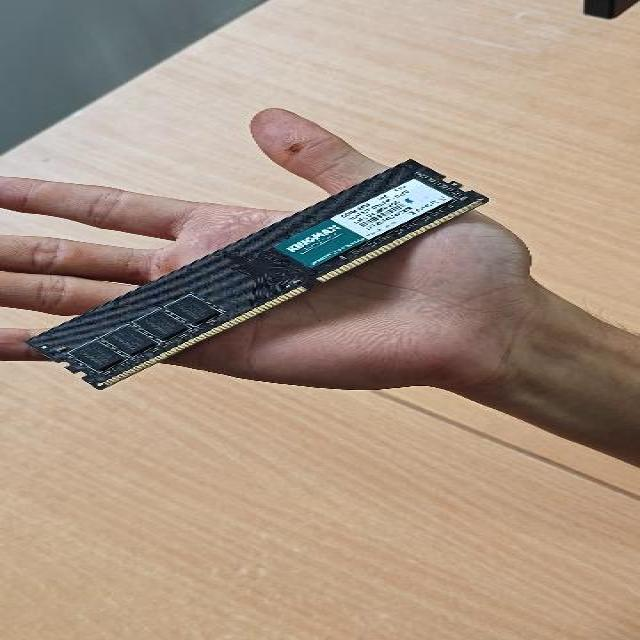RAM: (24, 154, 492, 391)
